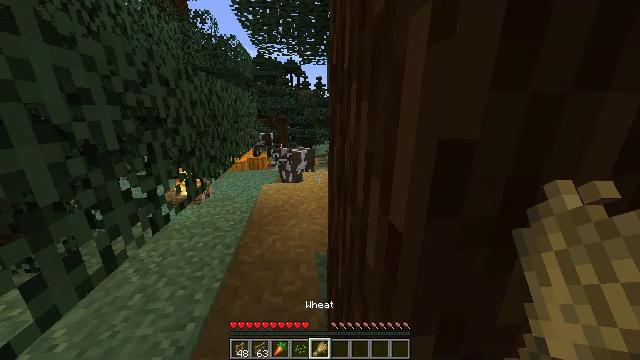cow: (277, 149, 315, 182), (250, 133, 275, 158)
